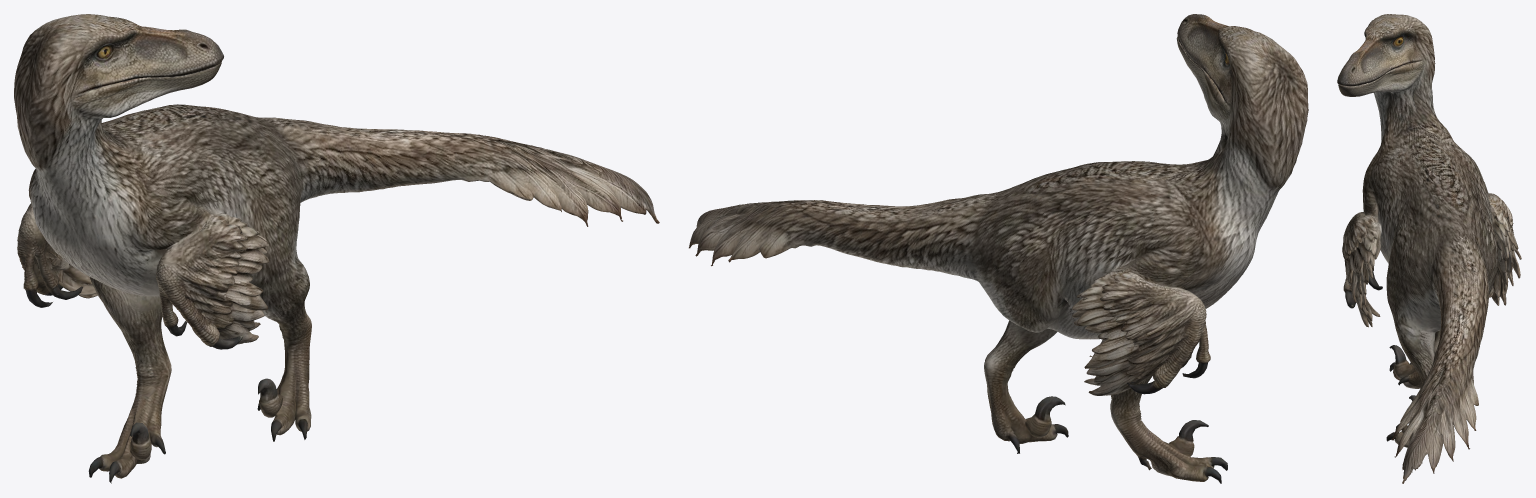
Rendered from velociraptor_feathered.glb.
3 renders of one model, left to right at view 1: azimuth 30°, elevation 25°; view 2: azimuth 150°, elevation 25°; view 3: azimuth 270°, elevation 25°, orthographic. The views are drawn at different scales.
Visible parts, largest first — view 1: tripo_node_e9916ed9-6713-42e2-a328-9590a8eda898; view 2: tripo_node_e9916ed9-6713-42e2-a328-9590a8eda898; view 3: tripo_node_e9916ed9-6713-42e2-a328-9590a8eda898.
Part boxes in pixels (left/top/right/bottom): tripo_node_e9916ed9-6713-42e2-a328-9590a8eda898: left=14, top=14, right=659, bottom=483; tripo_node_e9916ed9-6713-42e2-a328-9590a8eda898: left=689, top=14, right=1308, bottom=483; tripo_node_e9916ed9-6713-42e2-a328-9590a8eda898: left=1337, top=14, right=1521, bottom=483.
Bounding box in the file's own units: 0.9803 × 0.6927 × 0.3337.
1 material, 1 textured.
